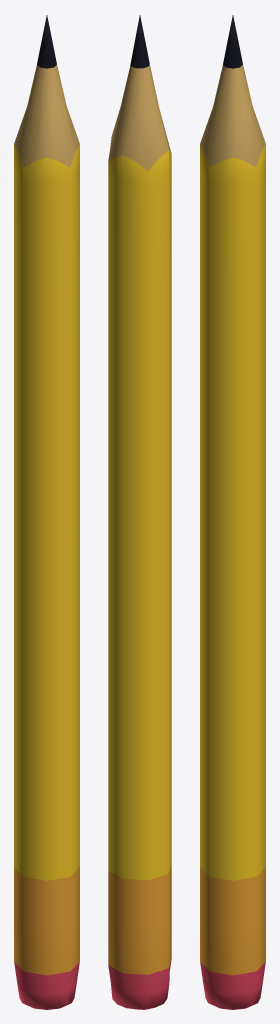
The model's file is Pencil.fbx.
3 renders of one model, left to right at view 1: azimuth 90°, elevation 25°; view 2: azimuth 150°, elevation 25°; view 3: azimuth 270°, elevation 25°, orthographic.
Parts seen in each view (by area): view 1: Msh_Pencil; view 2: Msh_Pencil; view 3: Msh_Pencil.
Boxes of the visible parts, box(x1,y1,x2,y2) form: Msh_Pencil: box(14, 15, 79, 1009); Msh_Pencil: box(108, 15, 171, 1009); Msh_Pencil: box(200, 15, 265, 1009).
Size of the model in its own units: 12.91 by 214 by 12.91.
